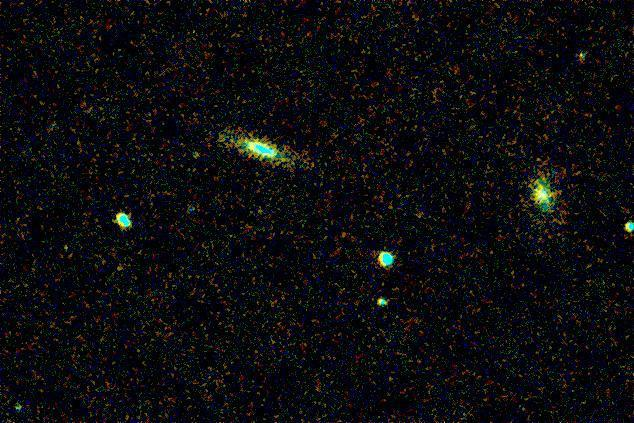star: (179, 140, 209, 170)
